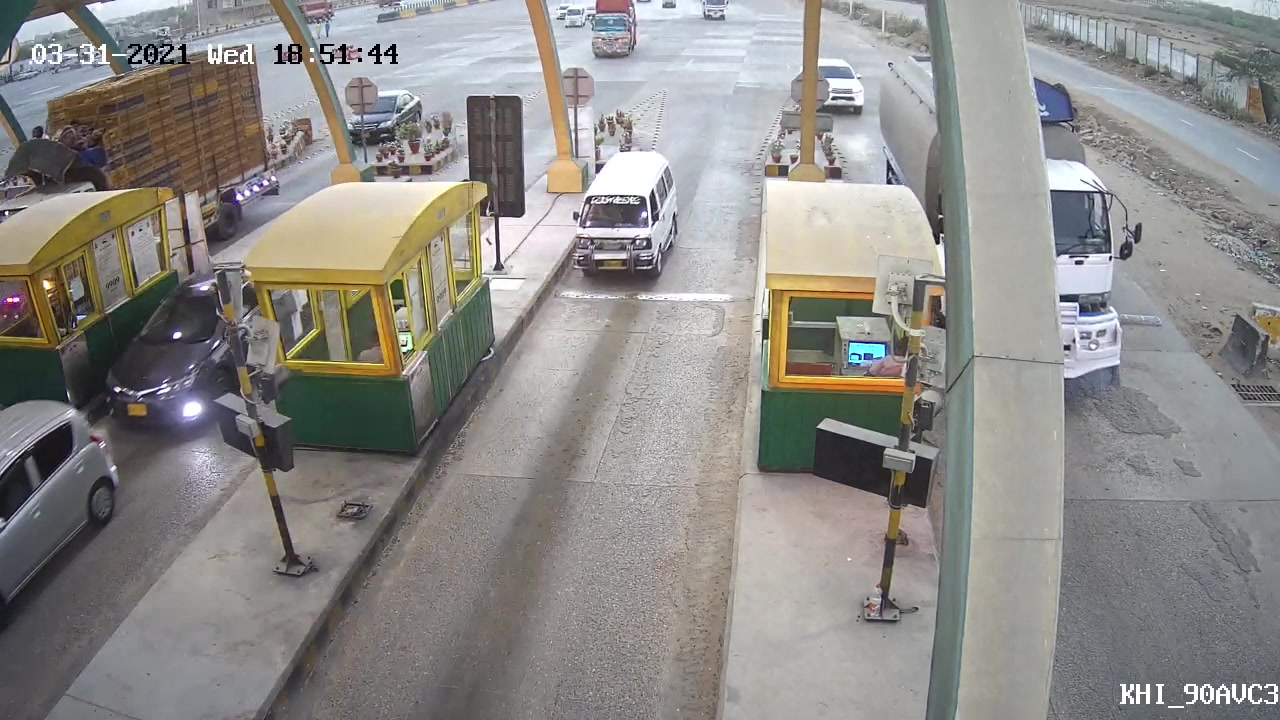F2: (565, 143, 690, 281)
